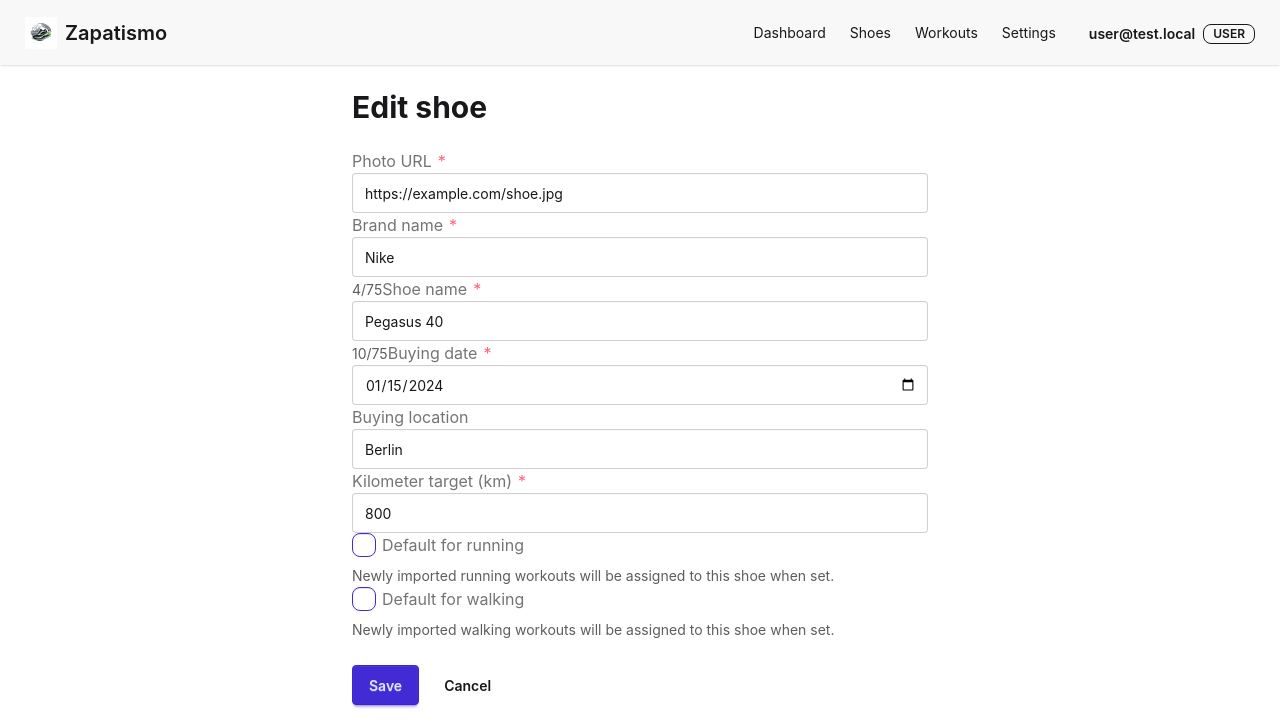
Test: Shoes › e2e › fixtures › edit shoe set as default for running then overview shows default running badge
Expected: the element with test id "shoe-is-default-running" is not checked
Check the checkbox with test id "shoe-is-default-running".
click(364, 545)  # box [352,533,376,557]
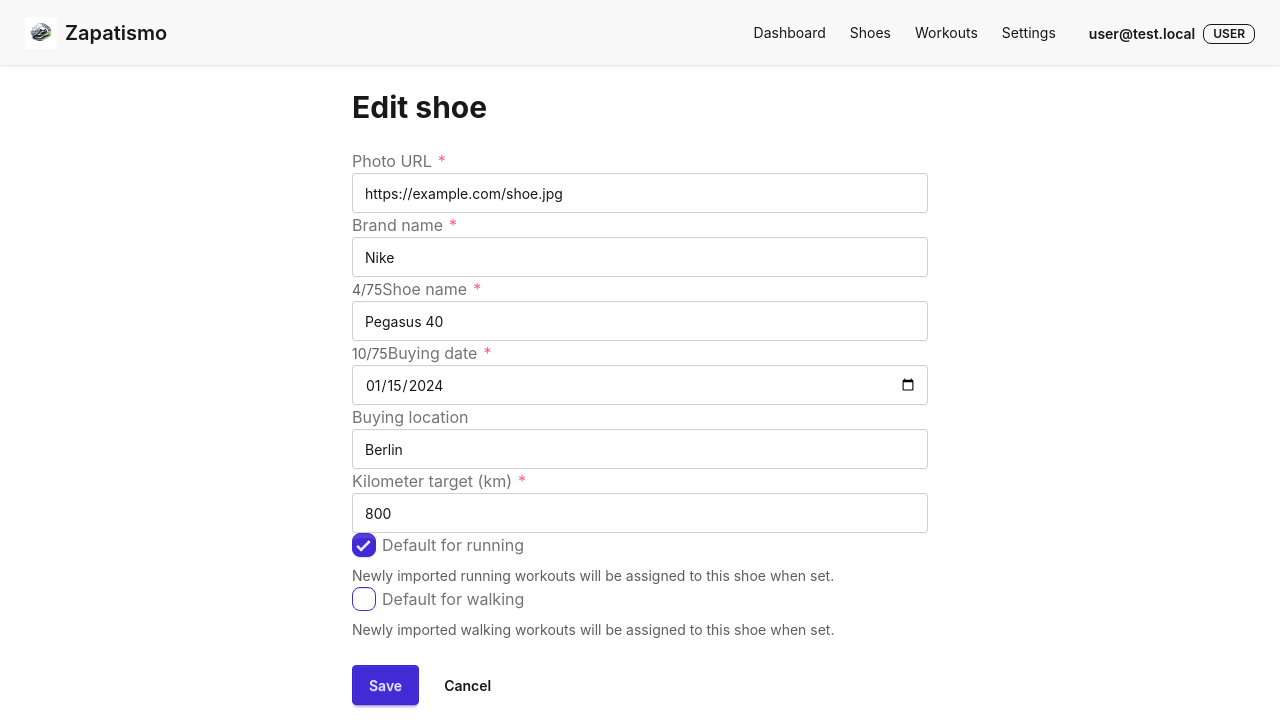
Click the button with test id "shoe-submit".
click(386, 685)  # box [352,665,419,705]
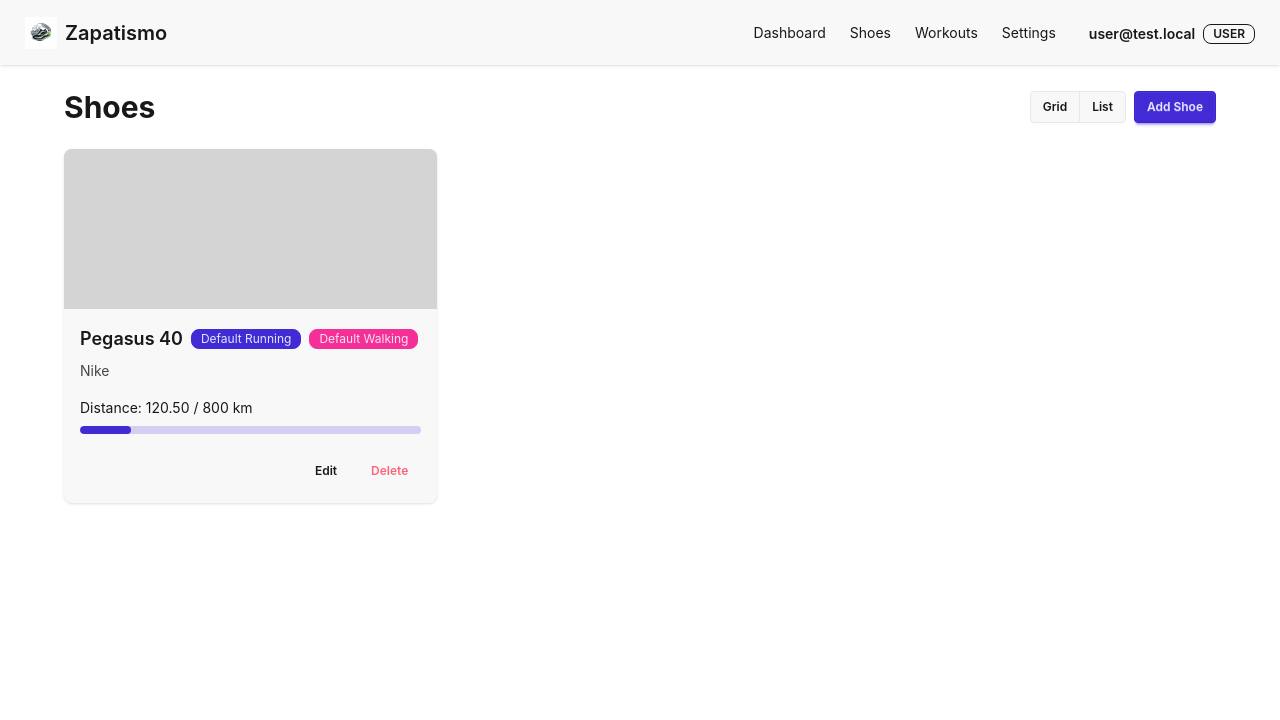
Result: the number of elements with test id "shoe-default-running-badge" is 1 at [191,329,302,349]
Result: the text with test id "shoe-default-running-badge" reads "Default Running" at [201,331,291,346]
